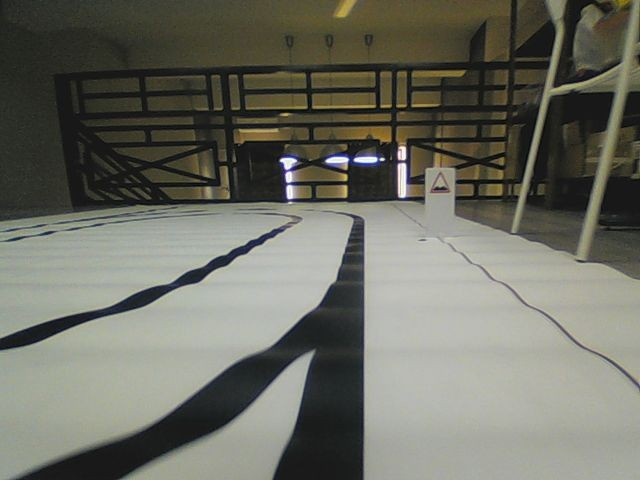Nerov: (429, 170, 451, 195)
